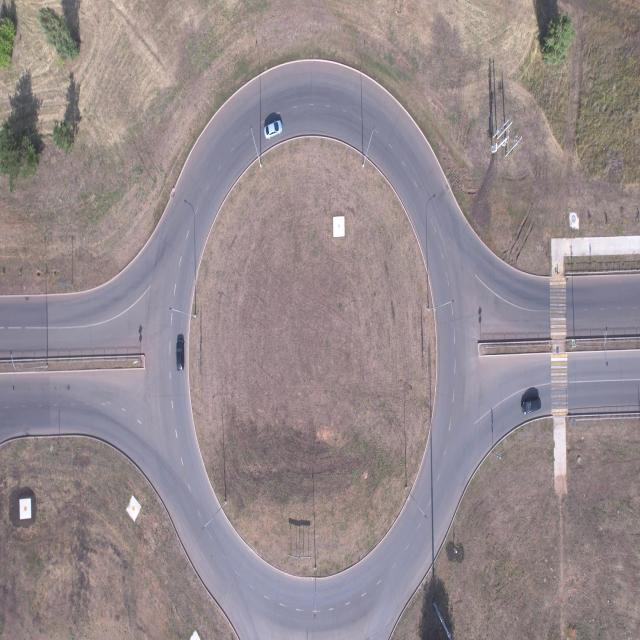Car: (263, 117, 284, 139), (522, 395, 541, 416), (175, 339, 185, 372)
